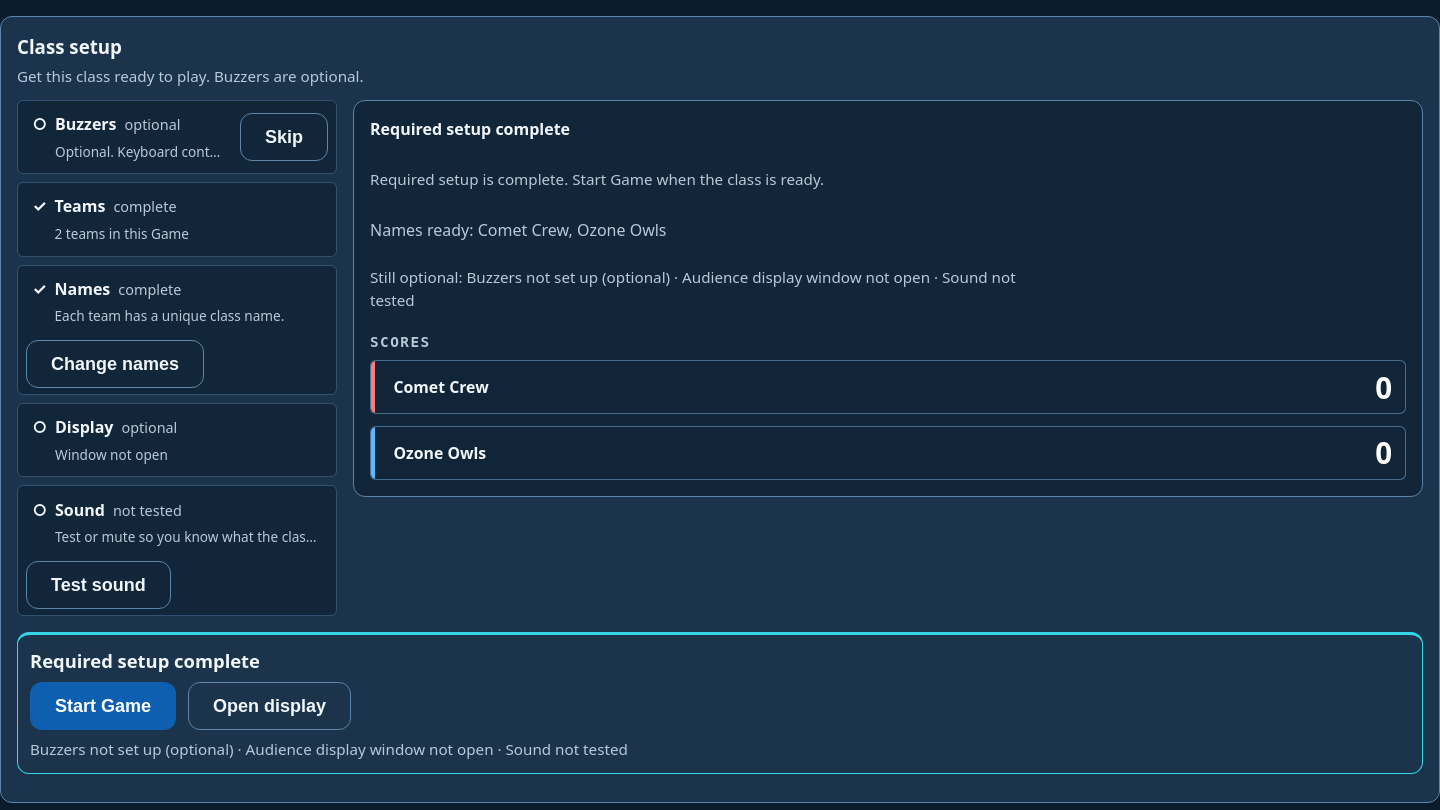
Scenario: ClassroomSetupPanel › keeps Start Game sole dominant when Teams is revisited while Ready
Expected: the message "Required setup complete" is shown, [30, 648, 260, 673]
Expected: the button with test id "setup-play" is enabled, [30, 682, 176, 730]
Click the button with test id "readiness-teams".
click(177, 219)  # box [26, 189, 328, 250]
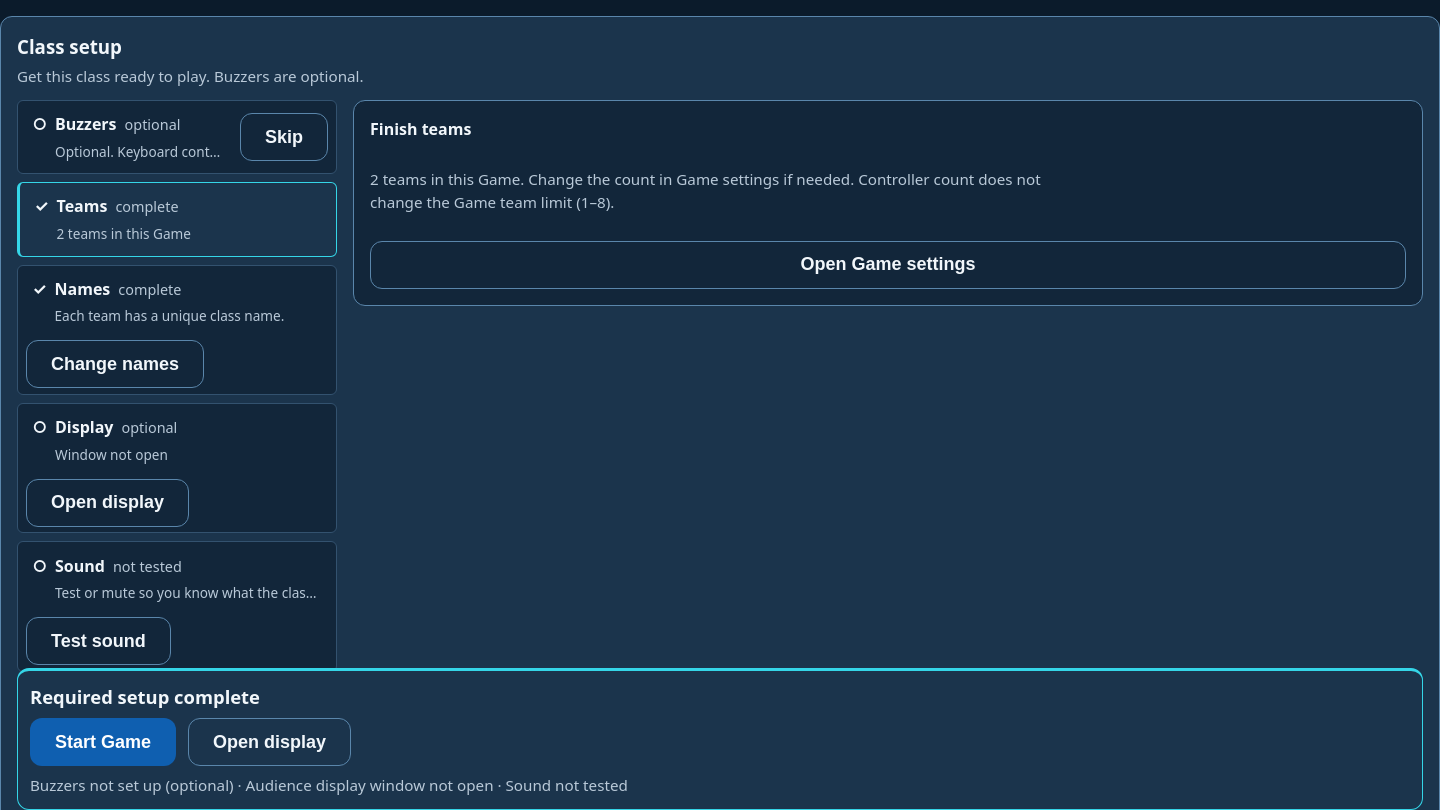
Expected: the message "Required setup complete" is shown, [30, 684, 260, 709]
Expected: the element with test id "setup-teams-task" is shown, [370, 153, 1406, 289]
Expected: the button with test id "setup-fix-team-count" is shown, [370, 241, 1406, 289]
